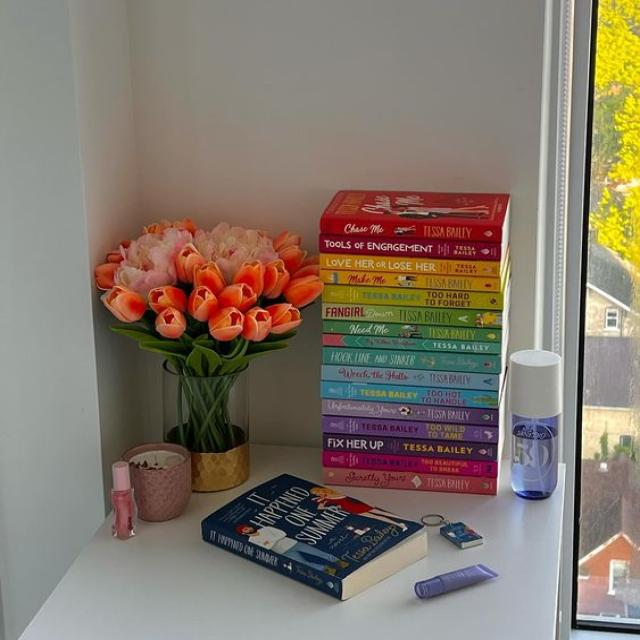book: (203, 523, 344, 601), (323, 466, 497, 496), (320, 381, 498, 409), (323, 433, 497, 461), (322, 399, 499, 426), (324, 347, 501, 374), (321, 303, 502, 329), (320, 235, 501, 261), (320, 365, 499, 391), (323, 451, 498, 477), (320, 217, 502, 242), (321, 418, 498, 443), (319, 269, 501, 293), (322, 286, 502, 310), (320, 254, 501, 276), (323, 321, 501, 342), (323, 334, 501, 354)
candle: (127, 444, 194, 524)
flowers: (90, 220, 322, 376)
